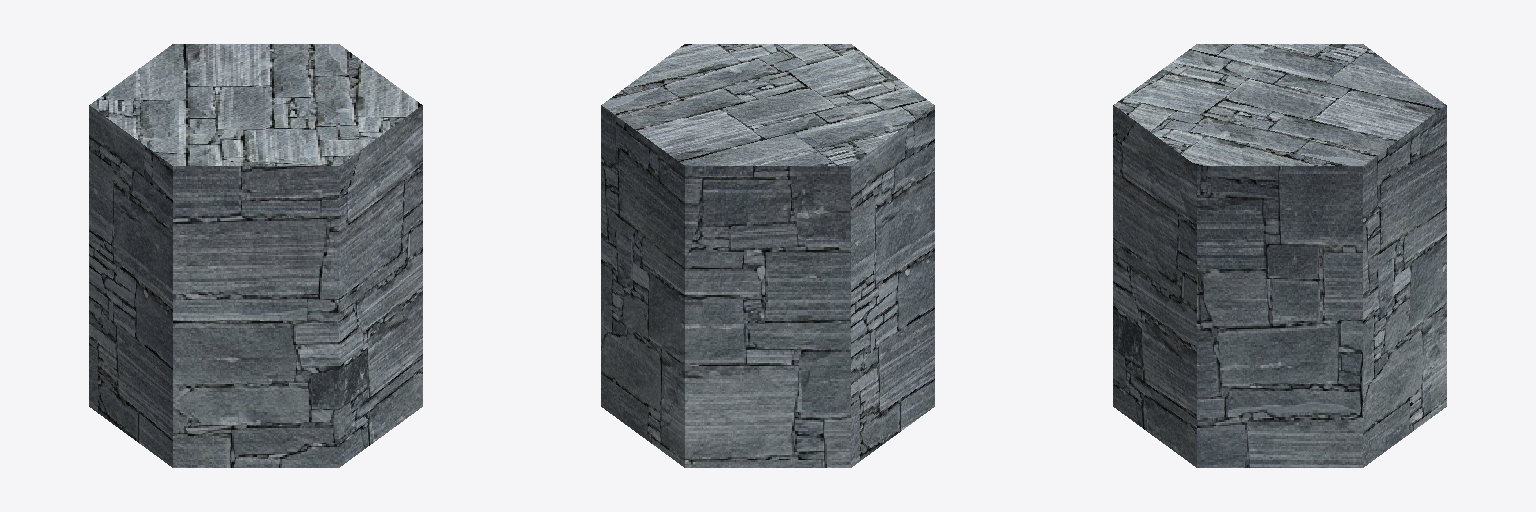
The picture shows the model from 3 angles: view 1: azimuth 30°, elevation 25°; view 2: azimuth 150°, elevation 25°; view 3: azimuth 270°, elevation 25°; orthographic projection.
Parts seen in each view (by area): view 1: Learning the Moves; view 2: Learning the Moves; view 3: Learning the Moves.
Part boxes in pixels (x1,y1,x2,y2): Learning the Moves: (89, 44, 422, 467); Learning the Moves: (601, 44, 934, 467); Learning the Moves: (1113, 44, 1446, 467).
Bounding box in the file's own units: 1.73 × 2 × 2.
Materials: 1 (1 with a texture image).